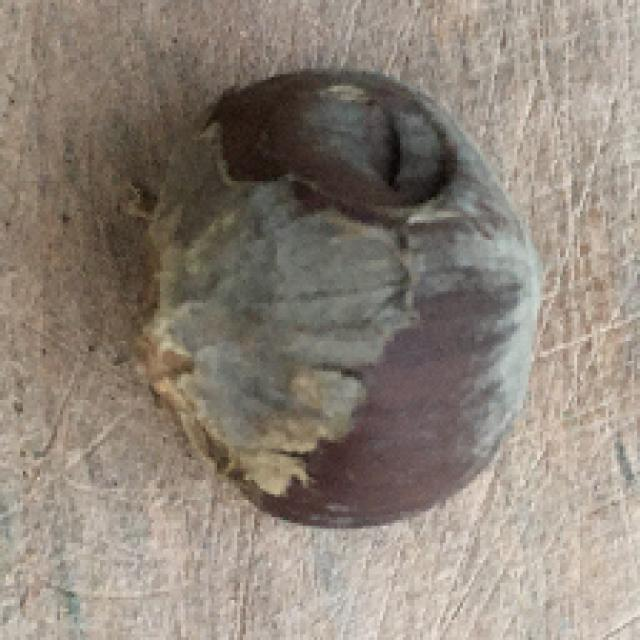damagedHazelnut: (128, 55, 548, 540)
